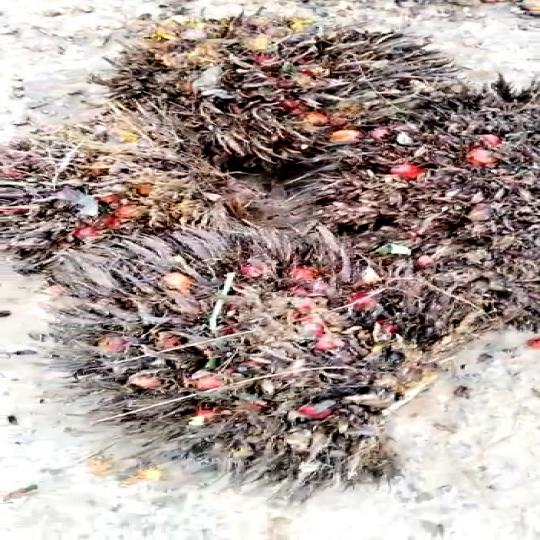terlalu masak: (32, 212, 472, 493), (76, 15, 472, 158)
